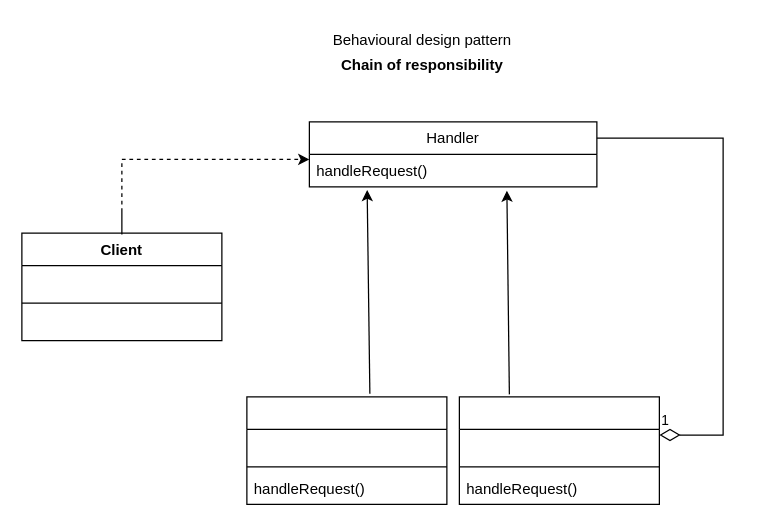
This 765x529 diagram has some shape labels left out. Each missing label, with the box of its shape:
ConcreteHandler1: (246, 396, 447, 504)
ConcreteHandler2: (458, 396, 659, 504)
